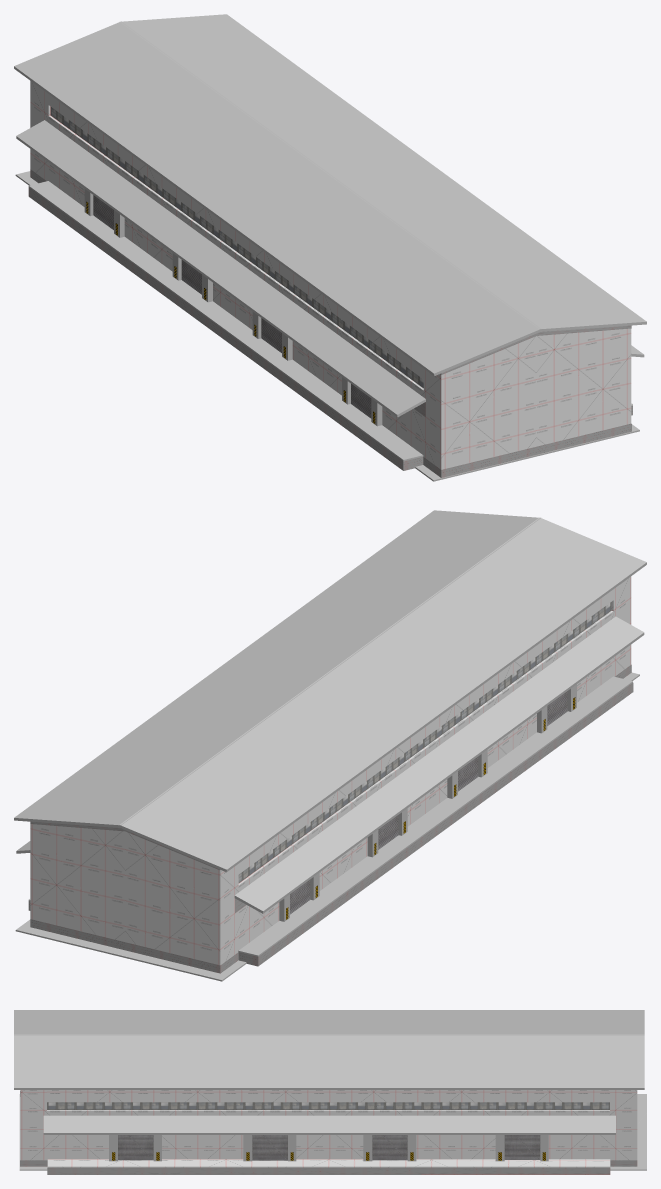
Rendered from tbuild_c.FBX.
3 renders of one model, top to bottom at view 1: azimuth 30°, elevation 25°; view 2: azimuth 150°, elevation 25°; view 3: azimuth 270°, elevation 25°, orthographic. The views are drawn at different scales.
Visible parts, largest first — view 1: Object001; view 2: Object001; view 3: Object001.
Boxes of the visible parts, box(x1,y1,x2,y2) form: Object001: box(14, 14, 646, 481); Object001: box(14, 510, 646, 981); Object001: box(14, 1010, 646, 1174).
Bounding box in the file's own units: 47.83 × 24.11 × 141.
